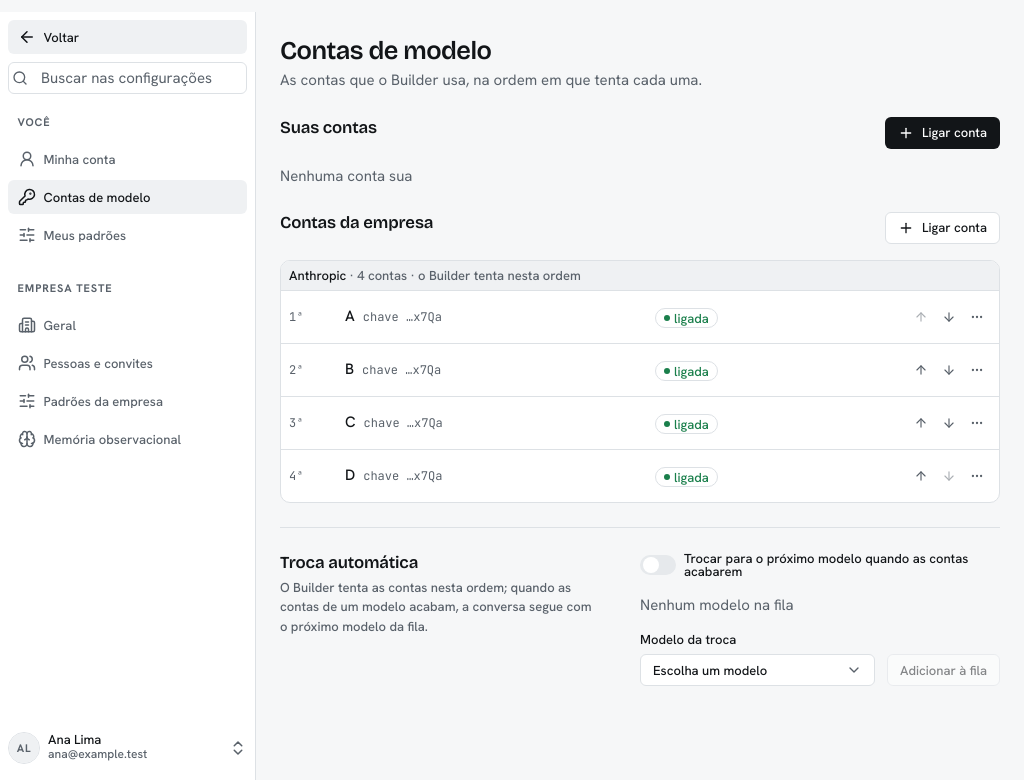
Test case: 409: a frase da falha, e a fila é lida de novo na ordem que ficou
Step 1. Click the button named "Subir B" → (921, 370), box [907,356,935,384]
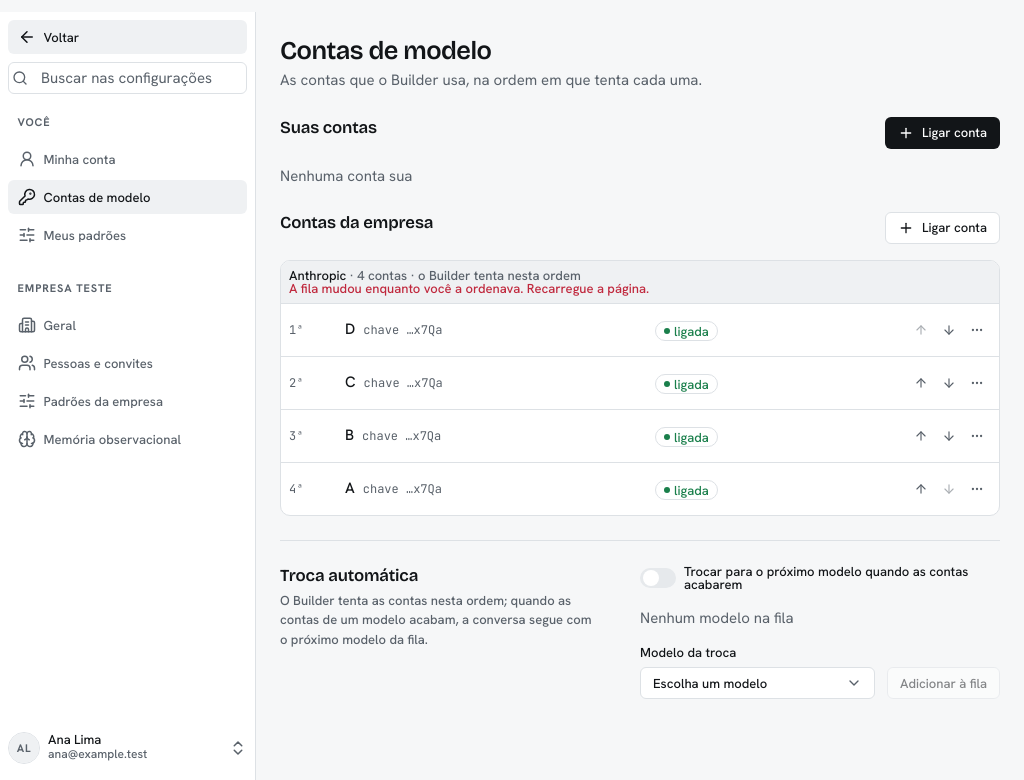
Expected: the text "A fila mudou enquanto você a ordenava. Recarregue a página." is shown, [289,280,649,297]
